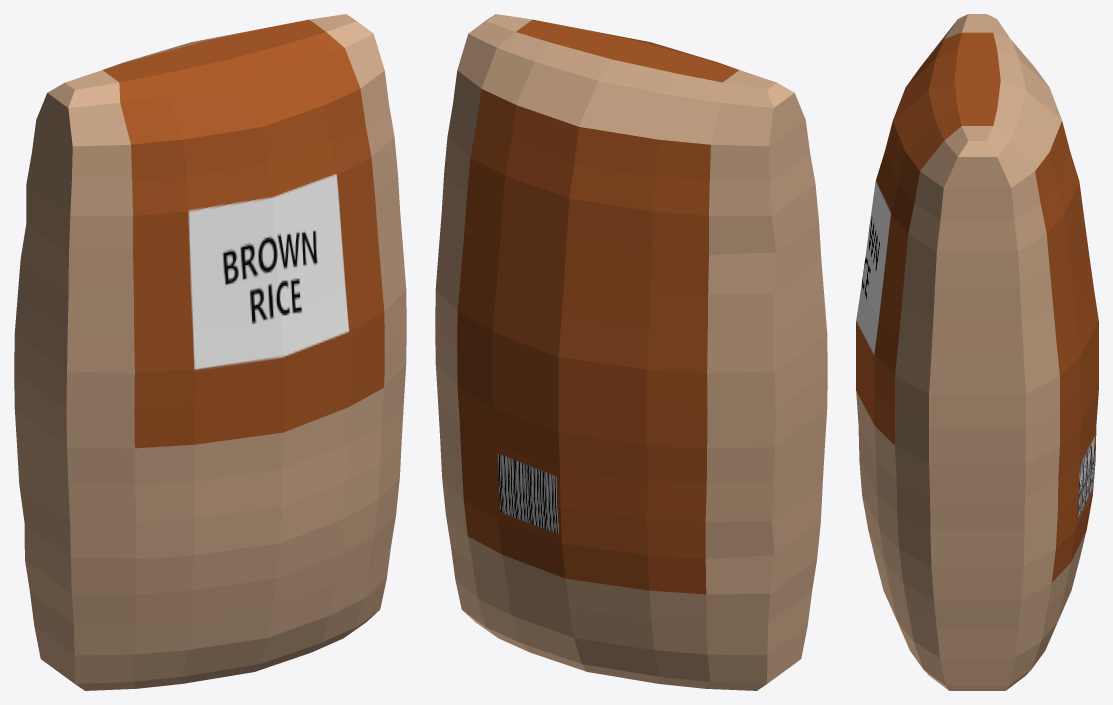
The model's file is brown_rice.glb.
3 views of the same model, side by side, from view 1: azimuth 30°, elevation 25°; view 2: azimuth 150°, elevation 25°; view 3: azimuth 270°, elevation 25° (orthographic). The views are drawn at different scales.
Parts seen in each view (by area): view 1: Cube; view 2: Cube; view 3: Cube.
Boxes of the visible parts, box(x1,y1,x2,y2) form: Cube: box(14, 14, 406, 690); Cube: box(435, 14, 827, 690); Cube: box(856, 14, 1098, 690).
Size of the model in its own units: 0.15 by 0.25 by 0.1.
Materials: 1 (1 with a texture image).
